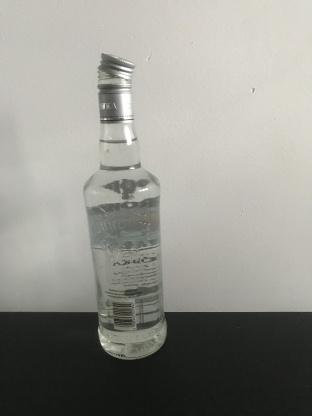nakretka: (95, 50, 136, 124)
